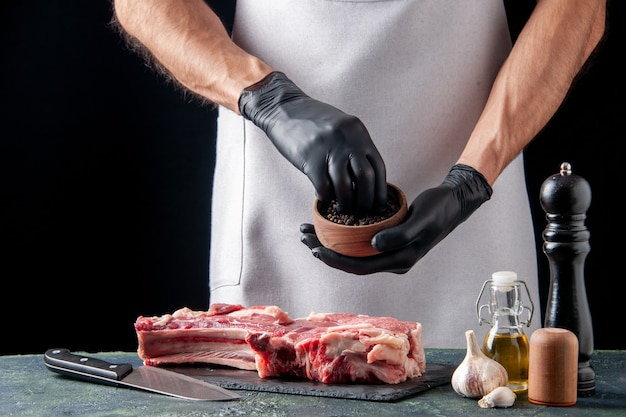knife: (43, 345, 243, 402)
